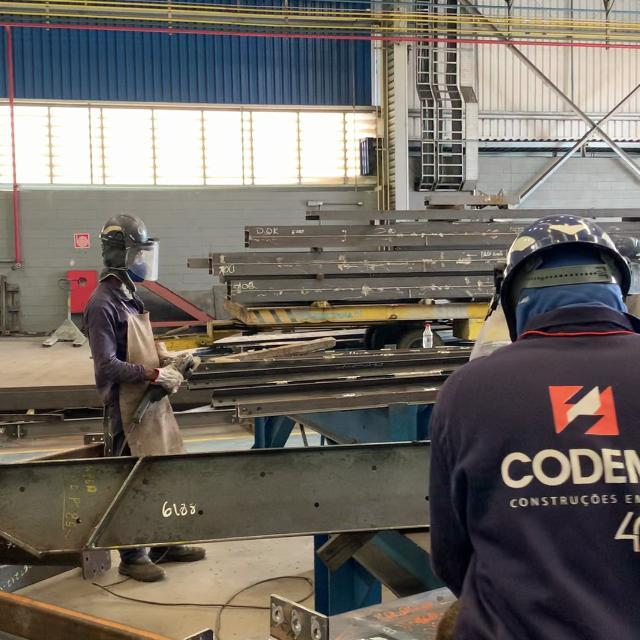face-shield: (126, 237, 161, 283), (151, 360, 185, 395)
helmet: (99, 212, 148, 242)
person: (80, 211, 202, 454)
safety-shoe: (117, 547, 170, 582), (148, 547, 204, 566)
